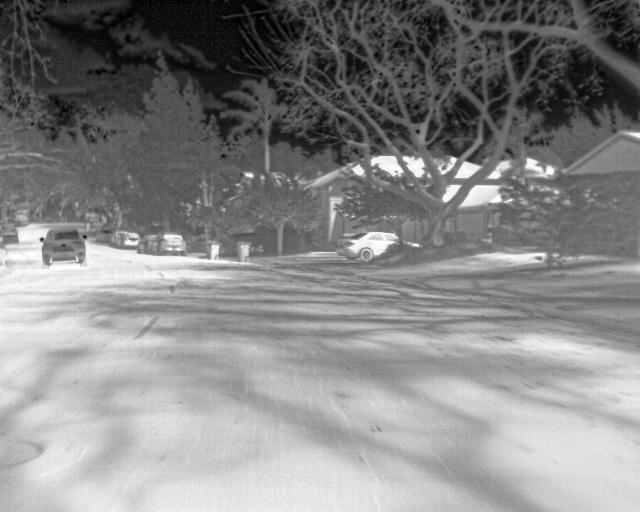car: (336, 229, 396, 263), (41, 226, 88, 265), (156, 232, 186, 256), (137, 234, 163, 254), (116, 230, 139, 247), (1, 227, 20, 244), (108, 228, 124, 244)
